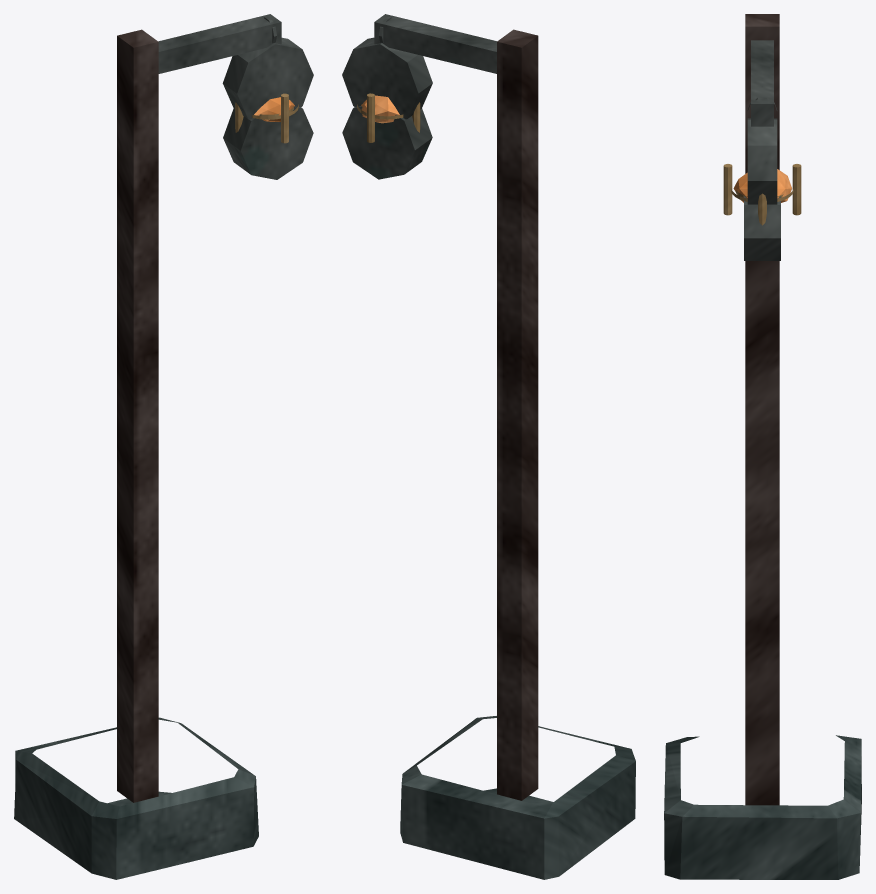
The model's file is 0709_lantern_post_09.glb.
The picture shows the model from 3 angles, left to right: view 1: azimuth 30°, elevation 25°; view 2: azimuth 150°, elevation 25°; view 3: azimuth 270°, elevation 25°; orthographic projection. The views are drawn at different scales.
Parts seen in each view (by area): view 1: wood_dark, stone_dark, iron, brass; view 2: wood_dark, stone_dark, iron, brass; view 3: wood_dark, stone_dark, iron, brass, amber.
Part boxes in pixels (x1,y1,x2,y2): wood_dark: [117, 29, 158, 802]; stone_dark: [14, 717, 258, 879]; iron: [158, 14, 313, 179]; brass: [235, 93, 298, 143]; wood_dark: [497, 29, 538, 800]; stone_dark: [400, 716, 635, 879]; iron: [342, 14, 496, 179]; brass: [357, 93, 420, 142]; wood_dark: [745, 14, 779, 805]; stone_dark: [664, 735, 861, 879]; iron: [744, 40, 780, 260]; brass: [723, 164, 801, 225]; amber: [733, 169, 791, 202].
Bounding box in the file's own units: 1.31 × 3.96 × 0.8598.
5 materials, 5 textured.
